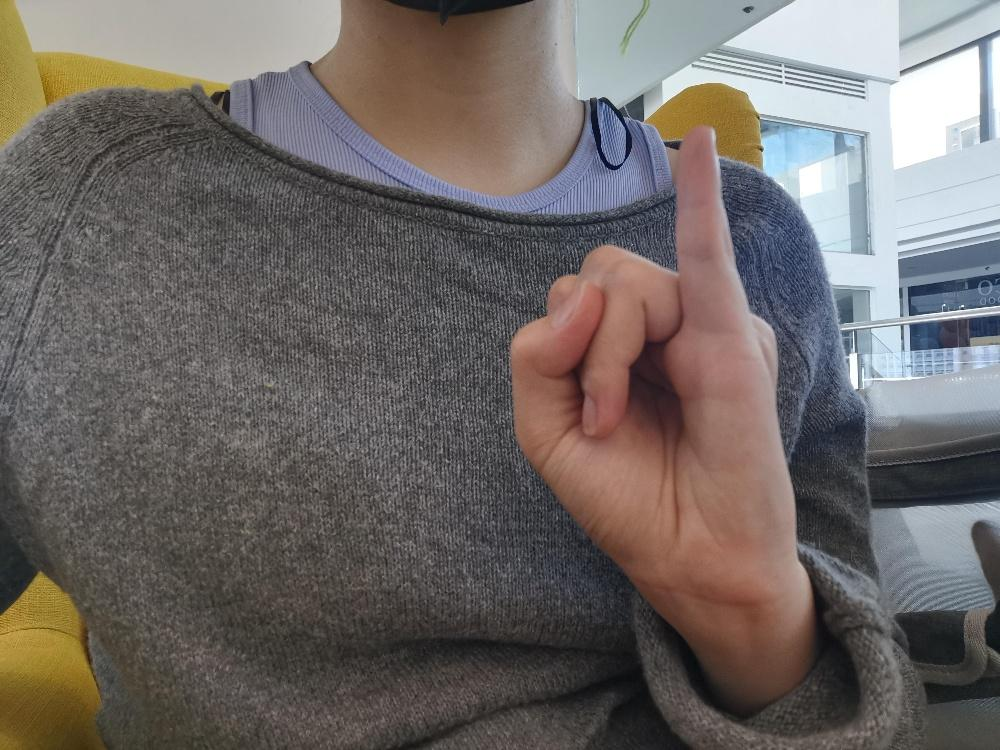i: (506, 121, 798, 601)
